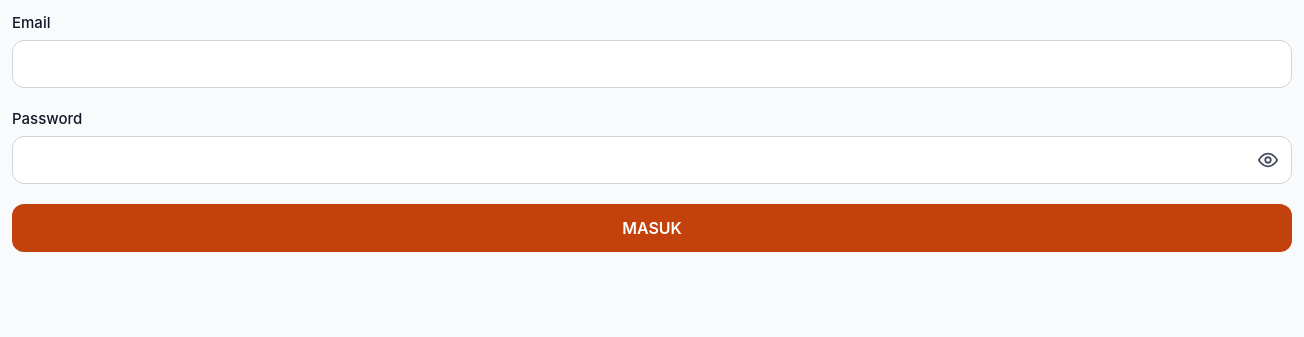
LoginForm › disables the button while the request runs and ignores a second submit
The image size is (1304, 337).
In the field labelled "Email": (652, 64) top-left (12, 40), bottom-right (1292, 88), type "owner.a@warungkasir.test"
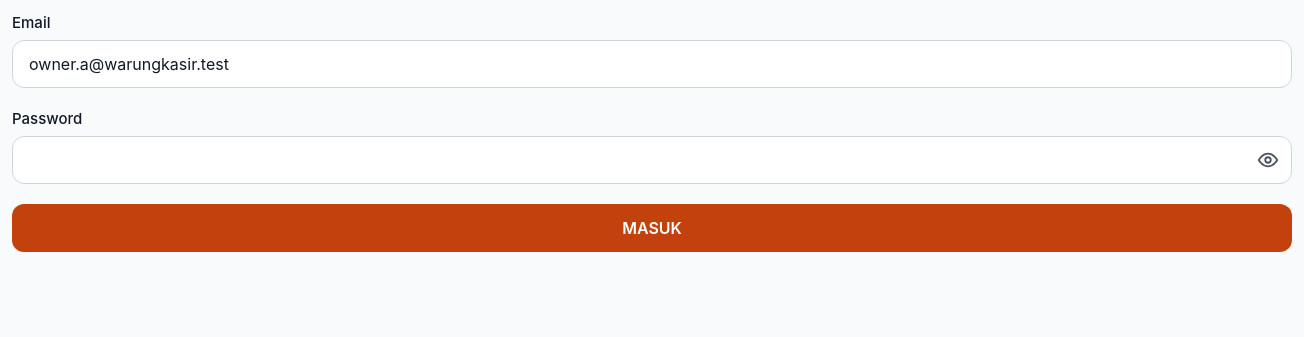
In the password field labelled "Password": (652, 160) top-left (12, 136), bottom-right (1292, 184), type "password123"
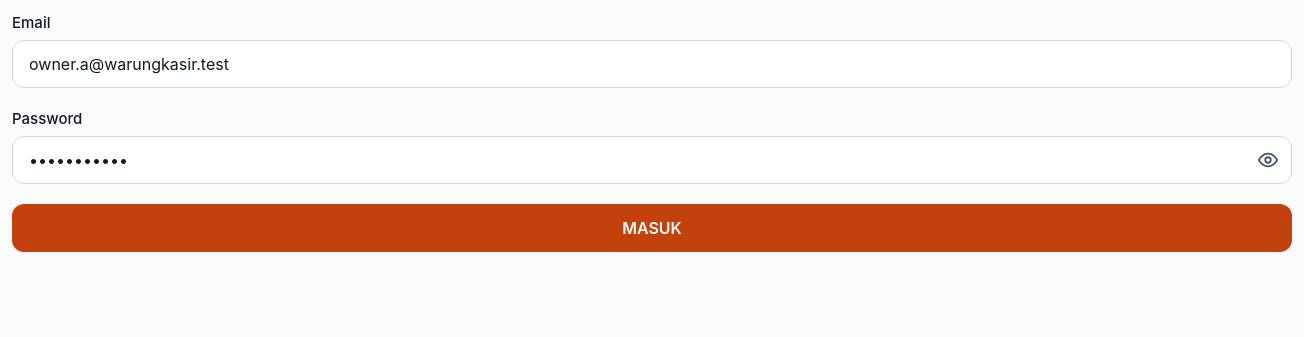
Click the button "MASUK": (652, 228) top-left (12, 204), bottom-right (1292, 252)
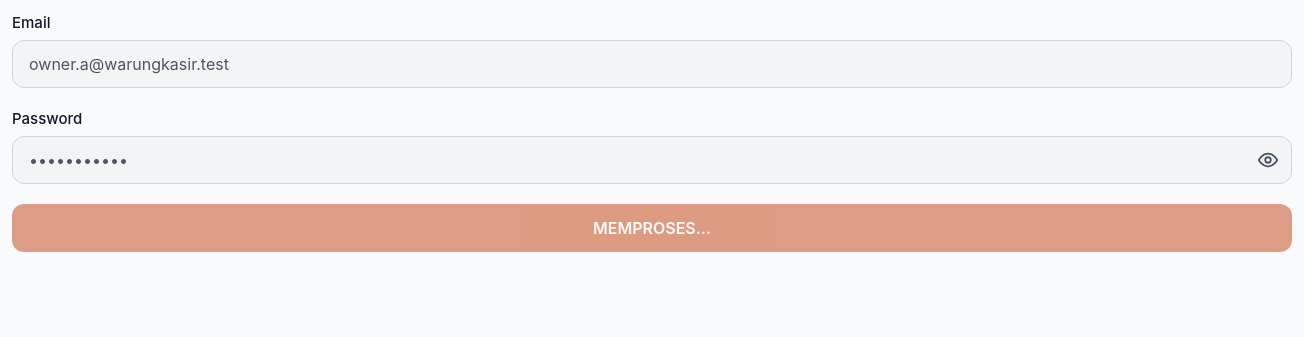
Expected: the button "MEMPROSES…" is disabled, top-left (12, 204), bottom-right (1292, 252)
Submit the form "MEMPROSES…"
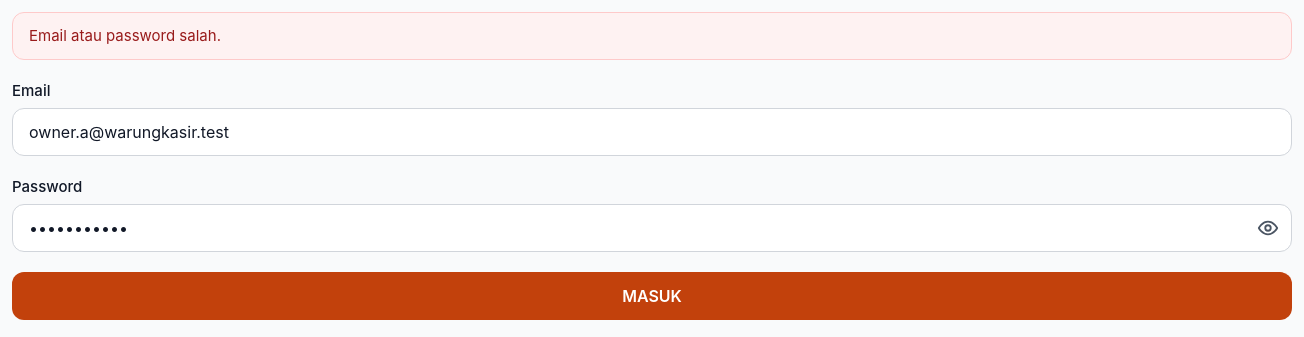
Expected: the message "Email atau password salah." is shown, top-left (12, 12), bottom-right (1292, 60)
